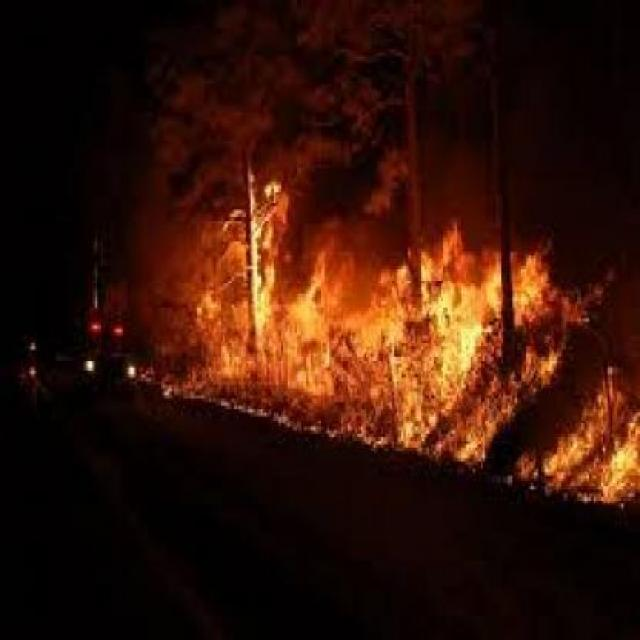Fire: (156, 174, 636, 488)
